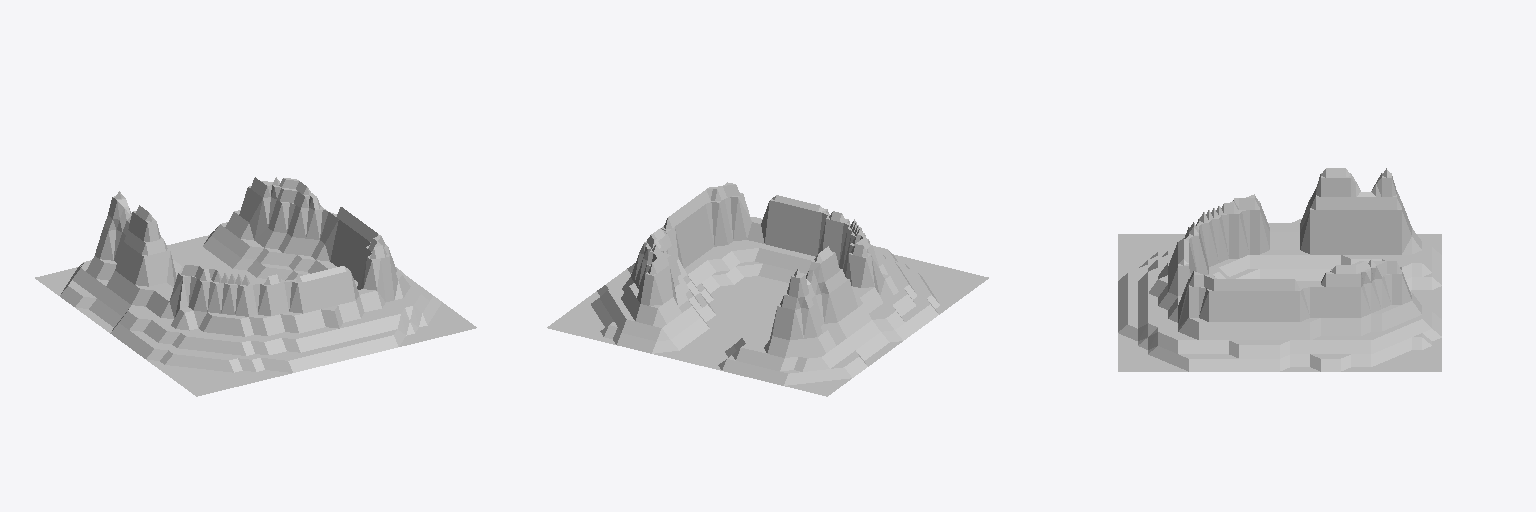
Rendered from Lagoon.obj.
The picture shows the model from 3 angles: view 1: azimuth 30°, elevation 25°; view 2: azimuth 150°, elevation 25°; view 3: azimuth 270°, elevation 25°; orthographic projection.
Parts seen in each view (by area): view 1: Plane; view 2: Plane; view 3: Plane.
Boxes of the visible parts, box(x1,y1,x2,y2) form: Plane: box(35, 177, 476, 396); Plane: box(547, 182, 988, 396); Plane: box(1118, 168, 1441, 371).
Bounding box in the file's own units: 10 × 3.19 × 10.